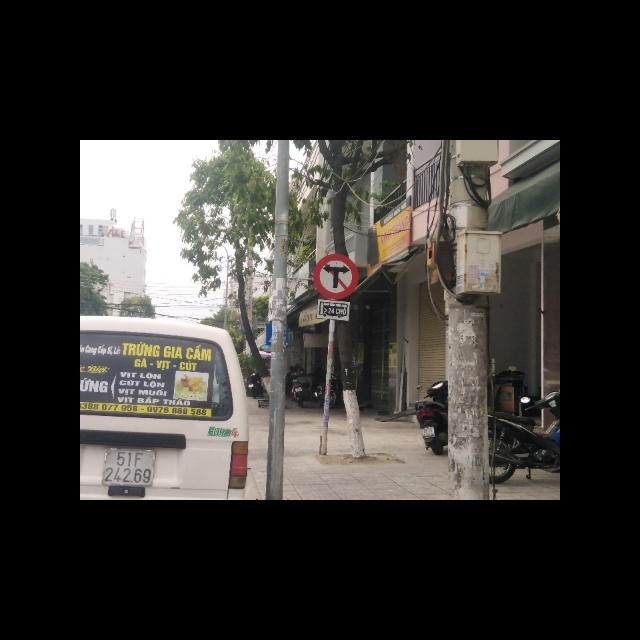Cấm rẽ trái và rẽ phải: (312, 252, 360, 299)
